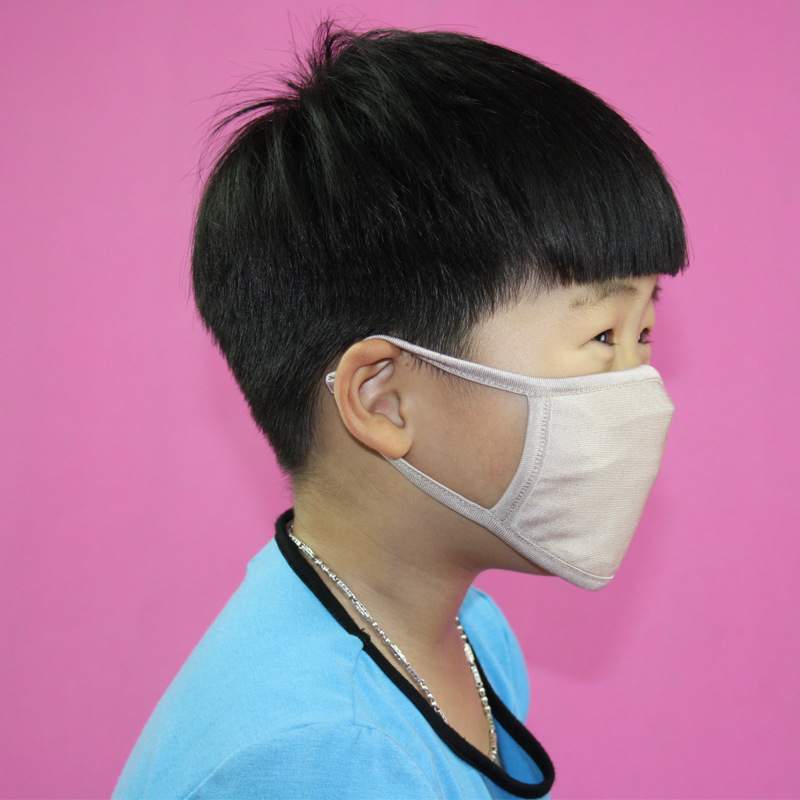face_mask: (436, 216, 682, 590)
